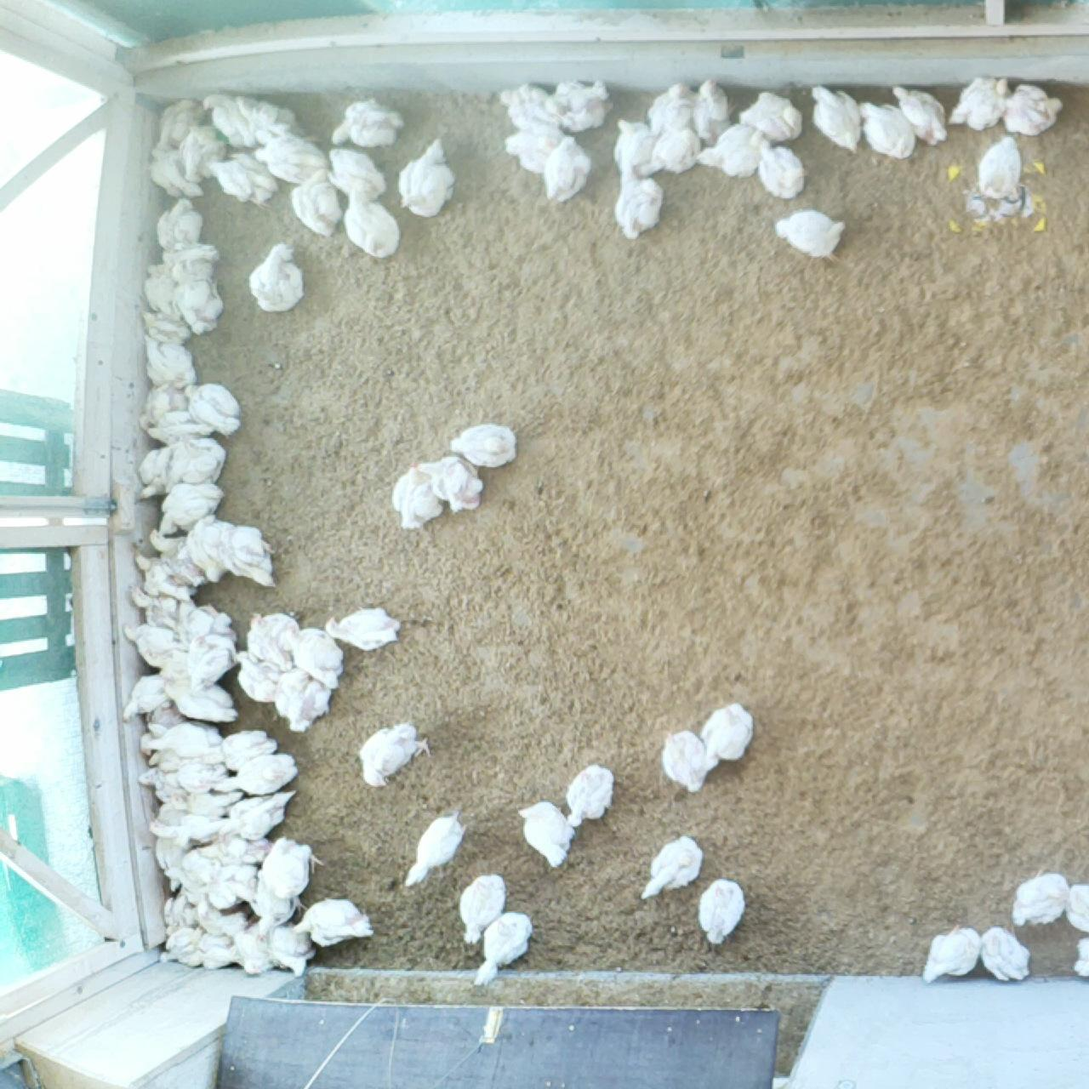chicken: (398, 802, 469, 896), (352, 719, 435, 793), (395, 134, 462, 219), (634, 832, 707, 908), (511, 794, 579, 874), (470, 909, 537, 990), (343, 178, 404, 264), (608, 154, 665, 245), (210, 750, 305, 804), (288, 895, 379, 951), (915, 918, 986, 989), (261, 831, 329, 905), (202, 149, 283, 211), (692, 121, 770, 183), (215, 785, 301, 841), (771, 204, 848, 265), (283, 620, 351, 689), (285, 162, 344, 241), (245, 242, 309, 313), (457, 867, 509, 954), (328, 94, 411, 148), (128, 584, 208, 640), (161, 670, 241, 726), (691, 874, 749, 950), (698, 696, 757, 770), (974, 921, 1039, 988), (945, 71, 1012, 136), (418, 452, 486, 515), (735, 86, 806, 146), (497, 118, 568, 178), (808, 82, 865, 156), (167, 263, 226, 334), (320, 604, 407, 652), (855, 97, 918, 163), (388, 459, 446, 530), (145, 524, 208, 589), (565, 760, 620, 834), (159, 477, 226, 537), (890, 80, 950, 147), (253, 128, 328, 181), (1007, 868, 1073, 928), (748, 136, 808, 202), (999, 80, 1068, 137), (546, 74, 615, 131), (540, 133, 596, 203), (633, 123, 704, 178), (972, 134, 1026, 206), (127, 544, 194, 602), (657, 720, 708, 796), (227, 519, 280, 592), (446, 420, 521, 470), (182, 633, 240, 696), (246, 608, 303, 670), (203, 728, 281, 773), (327, 144, 388, 201), (267, 918, 320, 983), (248, 876, 299, 943), (135, 335, 199, 388), (164, 438, 229, 489), (187, 382, 245, 438), (138, 720, 225, 757), (145, 141, 200, 198), (198, 90, 253, 146), (690, 75, 732, 146), (179, 122, 227, 184), (494, 79, 556, 127), (153, 197, 204, 255), (139, 407, 216, 445), (233, 646, 281, 706), (178, 838, 250, 878), (159, 93, 209, 150), (646, 80, 699, 132), (130, 445, 179, 501), (160, 849, 226, 890), (118, 674, 170, 725), (197, 832, 272, 867), (237, 94, 301, 135), (143, 813, 233, 842), (121, 621, 183, 663), (185, 516, 222, 585), (184, 600, 242, 643), (611, 113, 653, 170), (232, 923, 278, 975), (160, 756, 228, 791), (290, 680, 331, 738), (156, 923, 207, 969), (193, 891, 242, 936), (150, 835, 188, 893), (171, 789, 245, 818), (139, 263, 178, 318), (138, 306, 193, 344), (274, 665, 310, 723), (136, 383, 190, 419), (138, 766, 188, 802), (204, 514, 233, 574), (196, 932, 240, 971), (144, 697, 185, 738), (161, 889, 195, 938), (165, 241, 219, 271), (1062, 876, 1089, 935), (146, 646, 192, 677), (1066, 933, 1089, 981), (145, 749, 185, 776), (152, 794, 182, 825), (225, 861, 249, 887)
